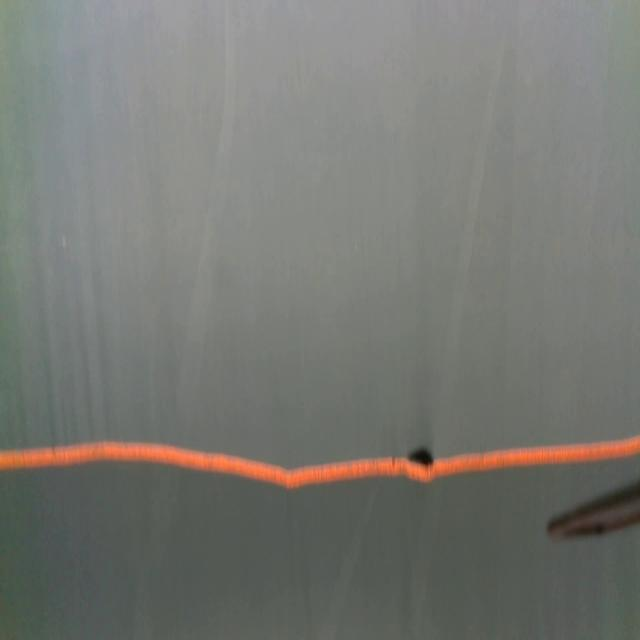hole: (406, 445, 434, 470)
